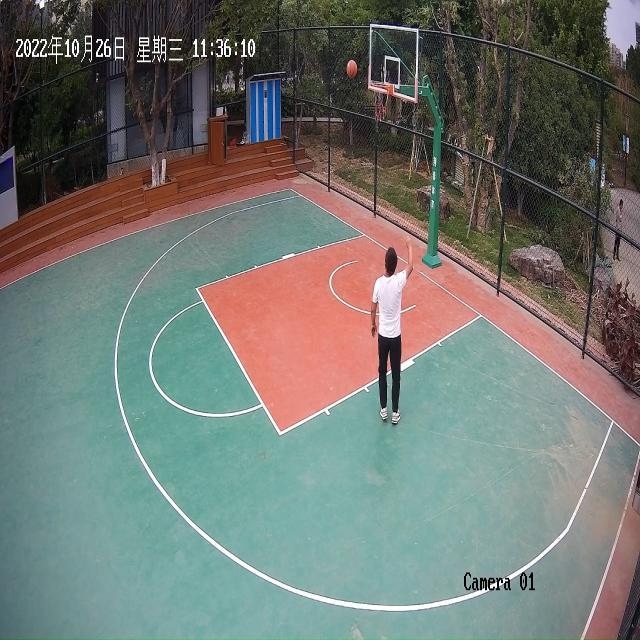rim: (346, 60, 357, 78)
